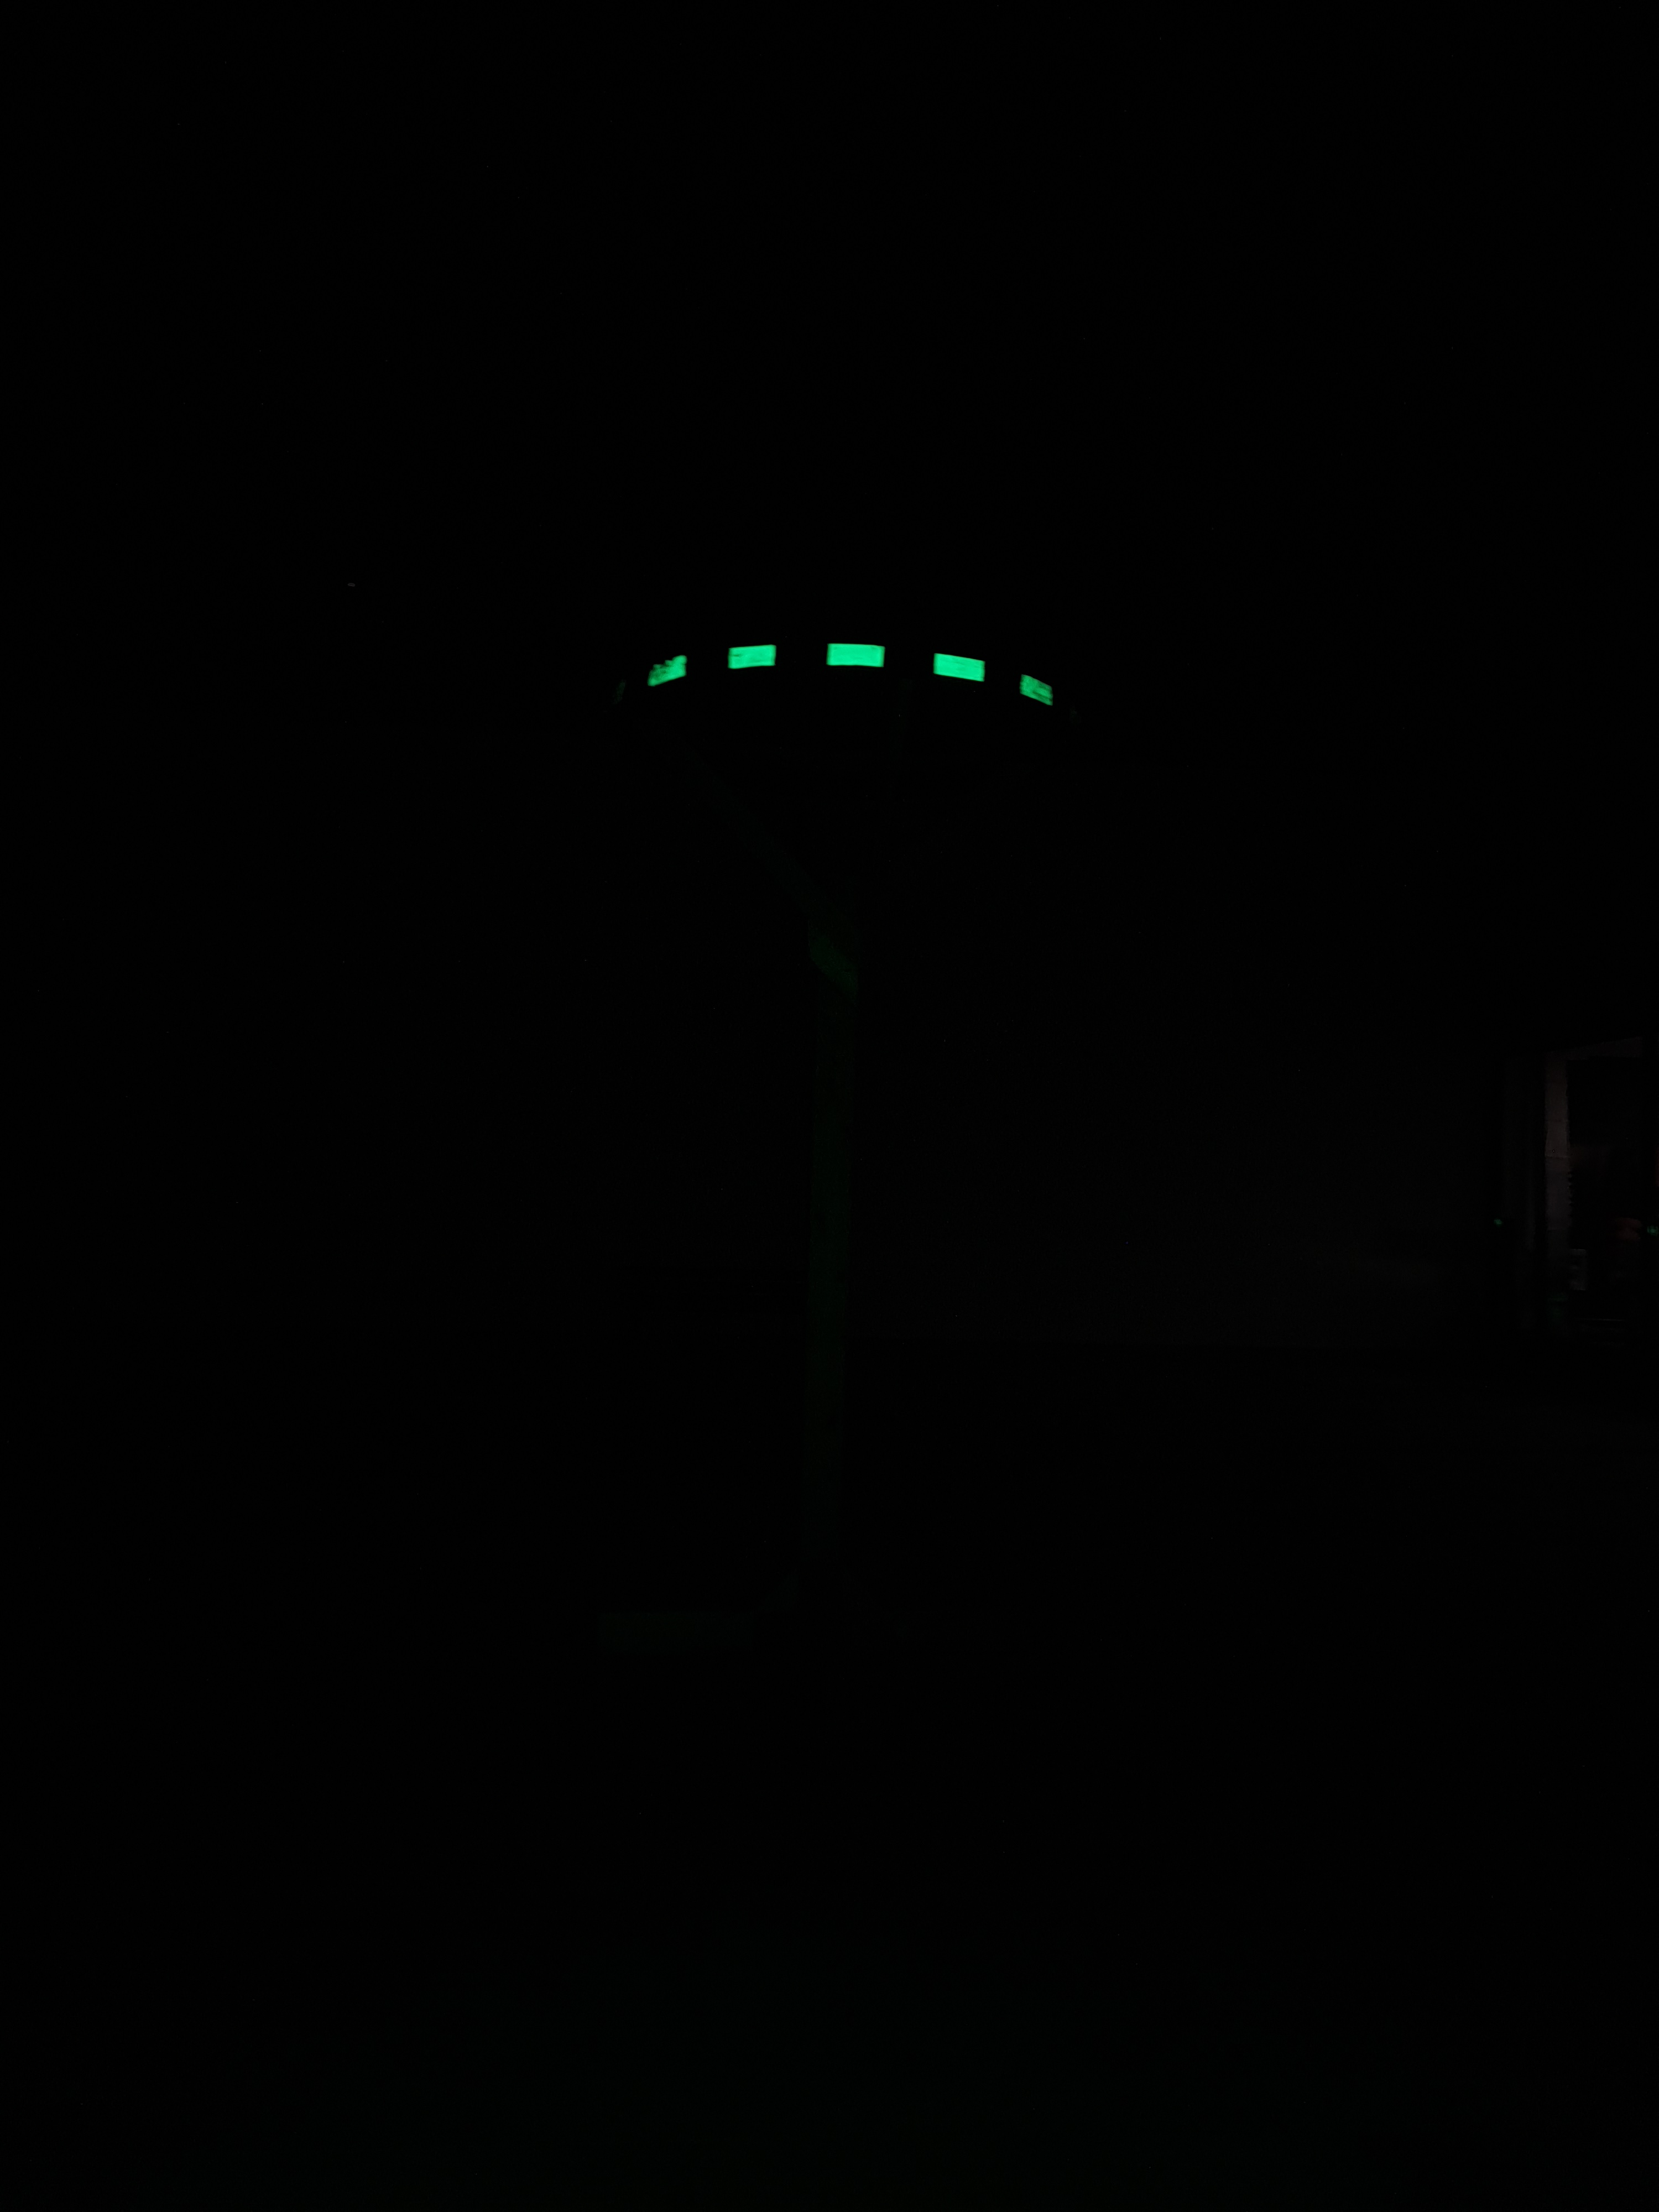hoop: (640, 634, 1058, 712)
